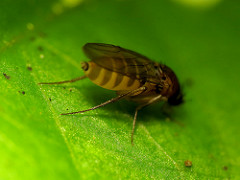phorid fly: (36, 30, 195, 150)
